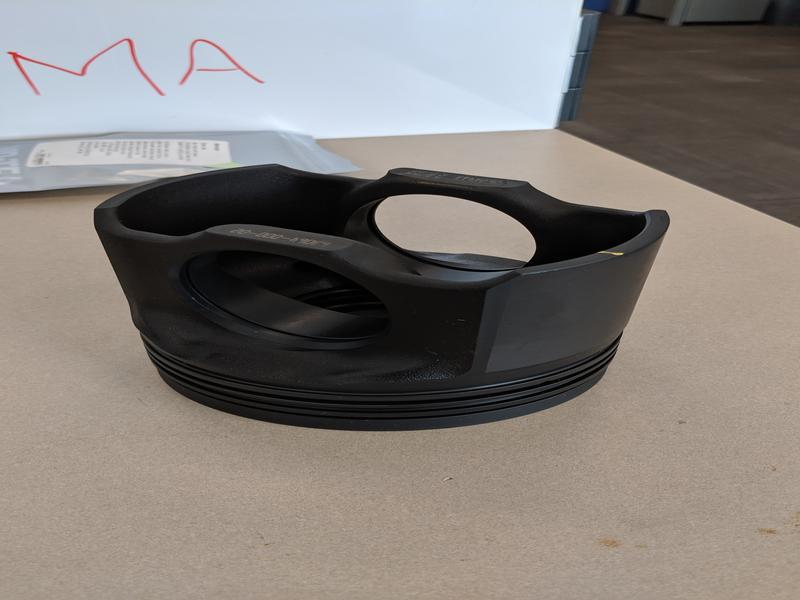piston: (86, 145, 675, 439)
